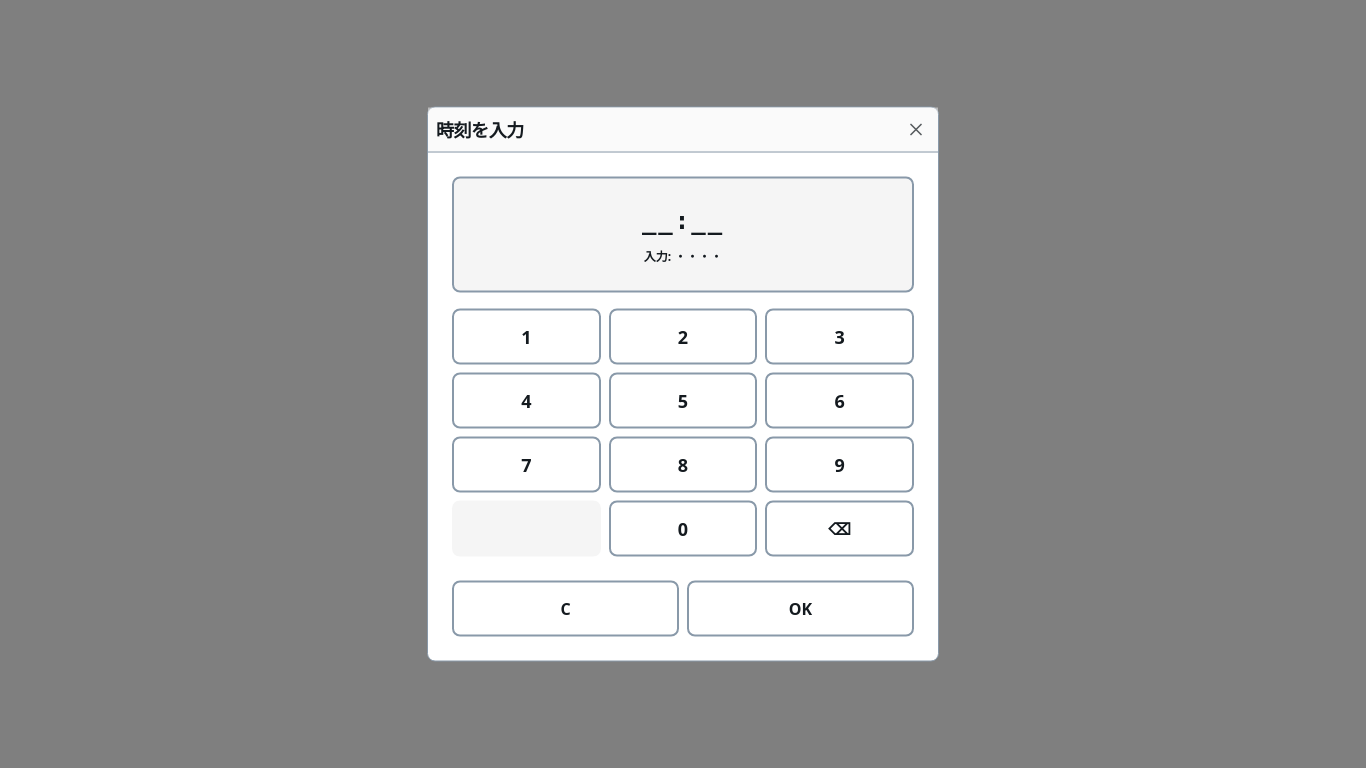
KeypadModal Component › Time Variant › formats display as time
Expected: the text "__:__" is shown, [642,202,724,240]
Click the button "0": point(683, 528) [609,500,757,556]
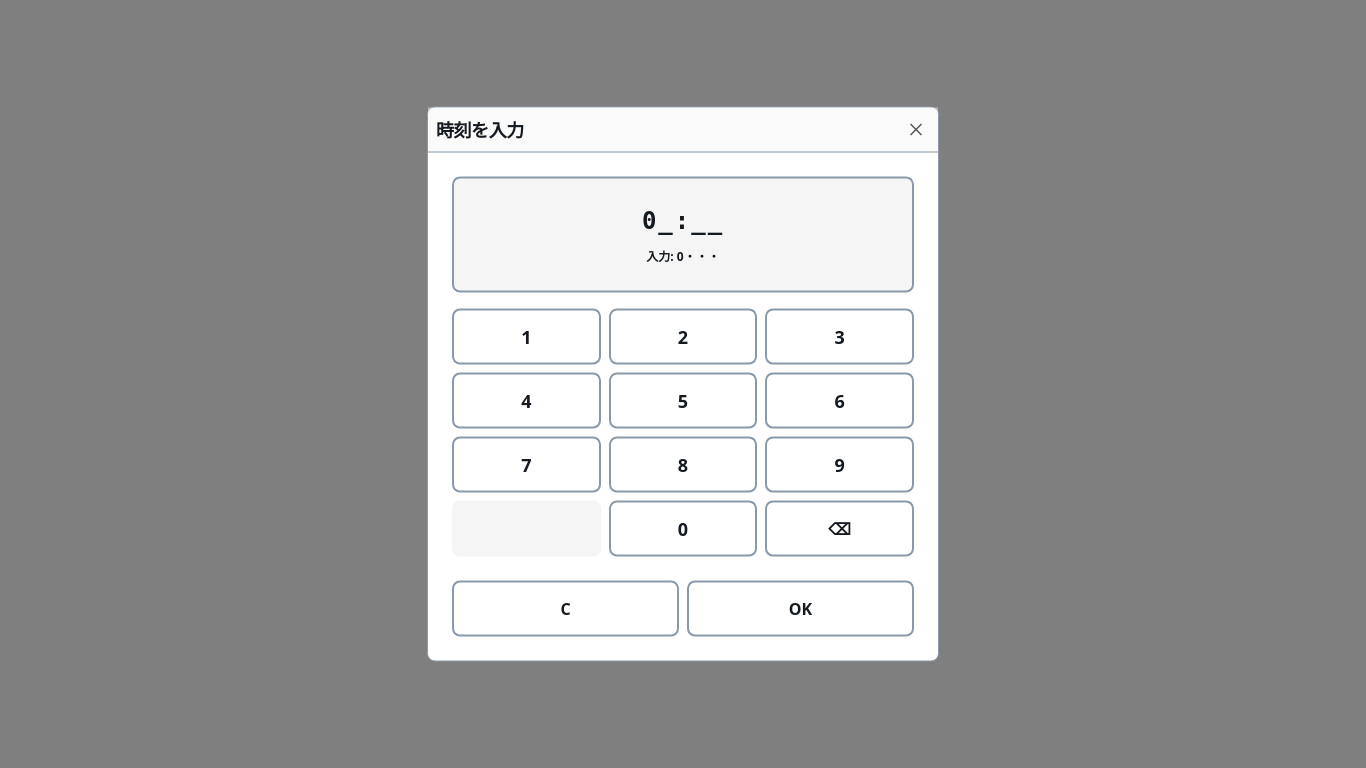
Click the button "9": point(840, 464) [765,436,914,492]
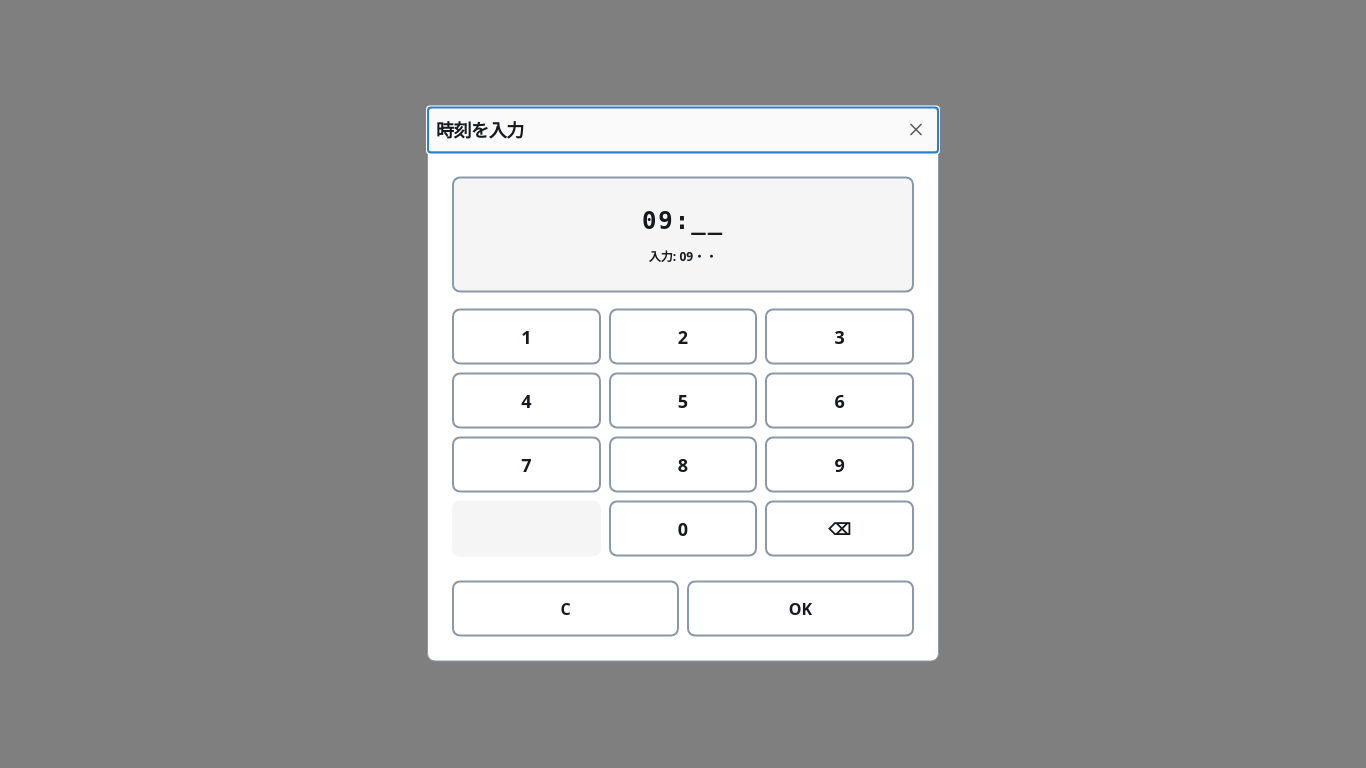
Now the text "09:__" is shown, box [642,202,724,240]
